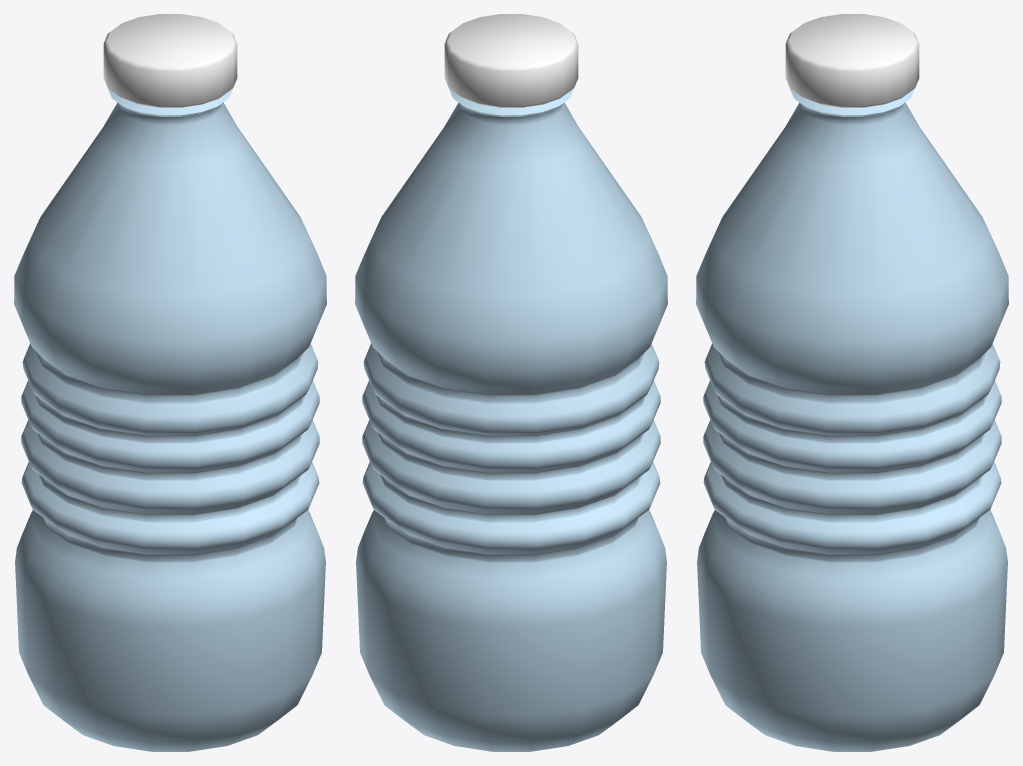
The model's file is bootle1.fbx.
3 renders of one model, left to right at view 1: azimuth 30°, elevation 25°; view 2: azimuth 150°, elevation 25°; view 3: azimuth 270°, elevation 25°, orthographic.
Visible parts, largest first — view 1: Circle; view 2: Circle; view 3: Circle.
Boxes of the visible parts, <box> form: Circle: <box>14,14,326,751</box>; Circle: <box>355,14,667,751</box>; Circle: <box>696,14,1008,751</box>.
Bounding box in the file's own units: 0.7444 × 1.79 × 0.7559.
